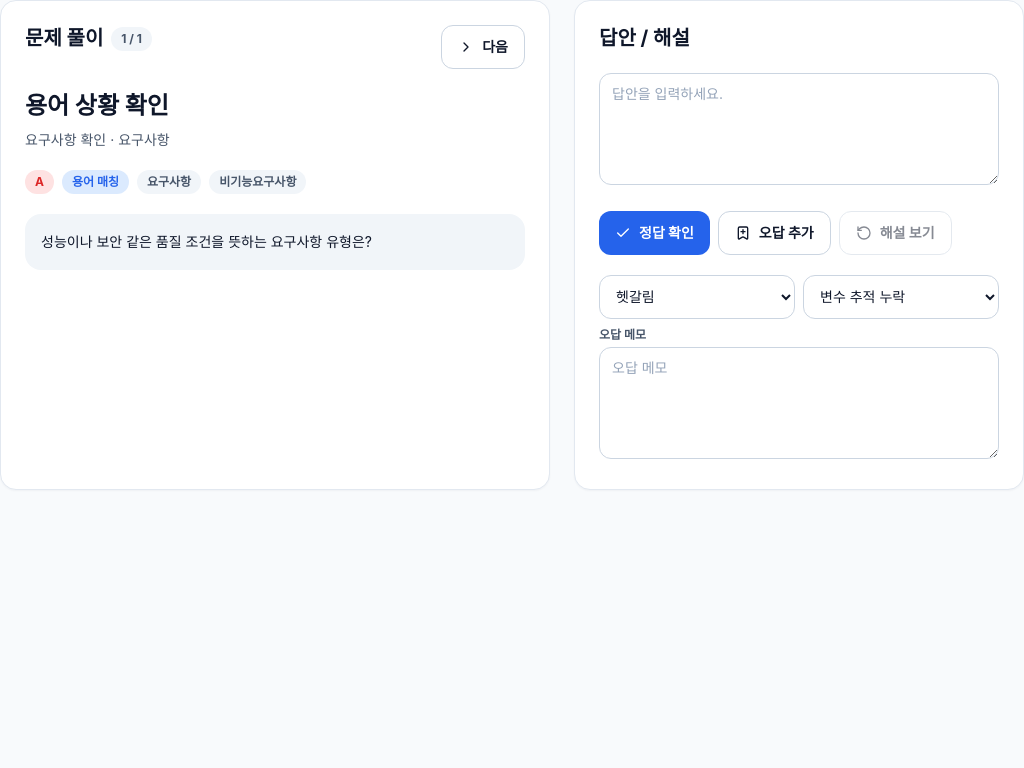
Test case: QuestionSolver UX › term 문제는 중요 키워드와 용어 사용 상황을 보여준다
Type "비기능 요구사항" into the text box with placeholder "답안을 입력하세요.". click: [799, 128]
box: [599,72,999,184]
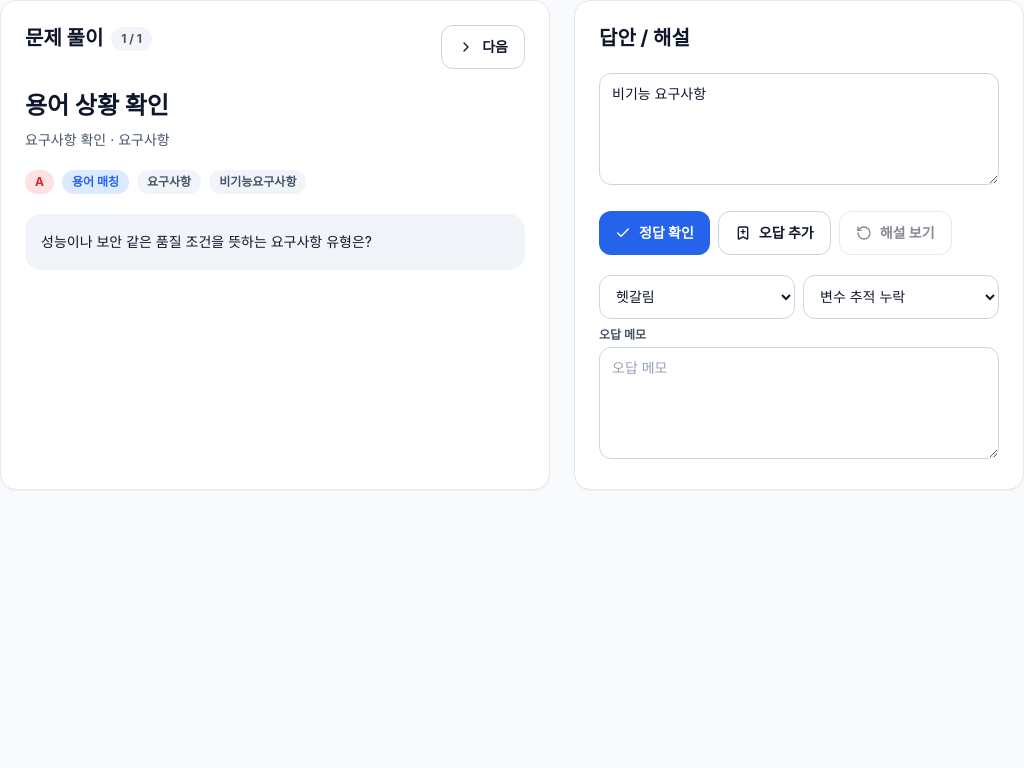
Click the button "정답 확인". click: [654, 232]
box: [599,210,710,254]
(page scrolled)
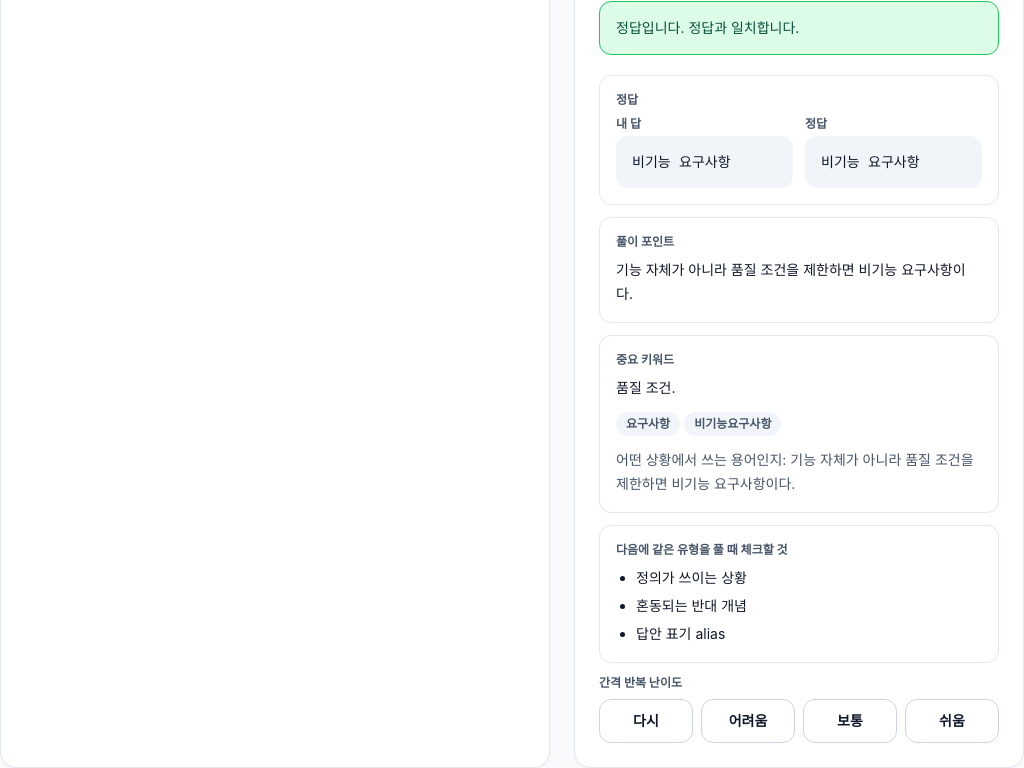
Now the text "정답입니다. 정답과 일치합니다." is shown, box [599,0,999,54]
Now the text "중요 키워드" is shown, box [616,352,674,366]
Now the text "품질 조건." is shown, box [616,378,676,396]
